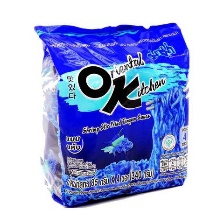snack: (26, 15, 197, 212)
